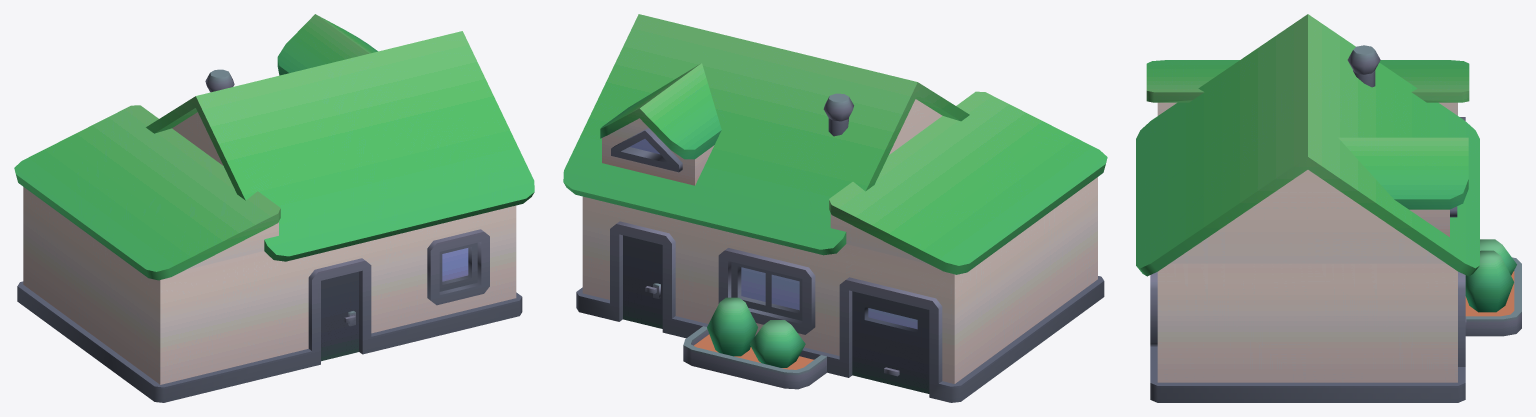
Rendered from sub_building_type_i.glb.
The picture shows the model from 3 angles, left to right: view 1: azimuth 30°, elevation 25°; view 2: azimuth 150°, elevation 25°; view 3: azimuth 270°, elevation 25°; orthographic projection. The views are drawn at different scales.
Visible parts, largest first — view 1: building-type-i; view 2: building-type-i; view 3: building-type-i.
Boxes of the visible parts, x1,y1,x2,y2 form: building-type-i: [14, 14, 534, 402]; building-type-i: [563, 14, 1107, 402]; building-type-i: [1136, 14, 1521, 402].
Size of the model in its own units: 1.29 by 0.7375 by 1.03.
Materials: 1 (1 with a texture image).
